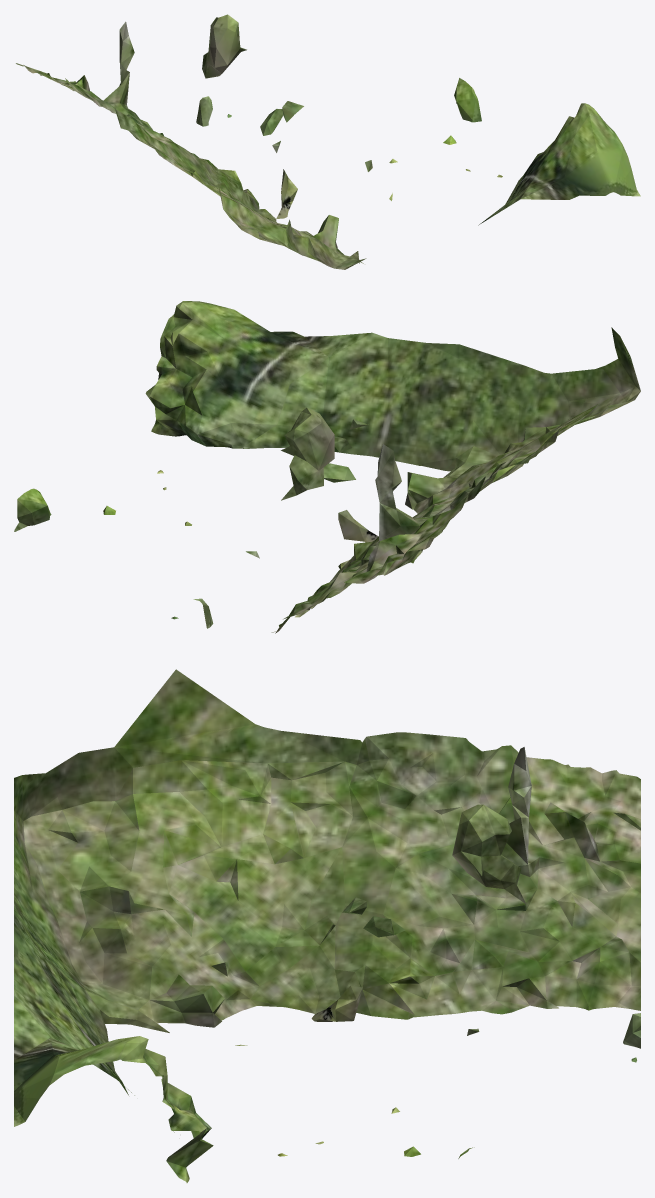
3 views of the same model, one above another, from view 1: azimuth 30°, elevation 25°; view 2: azimuth 150°, elevation 25°; view 3: azimuth 270°, elevation 25° (orthographic). The views are drawn at different scales.
Bounding box in the file's own units: 52.22 × 22.92 × 52.22.
2 materials, 2 textured.
